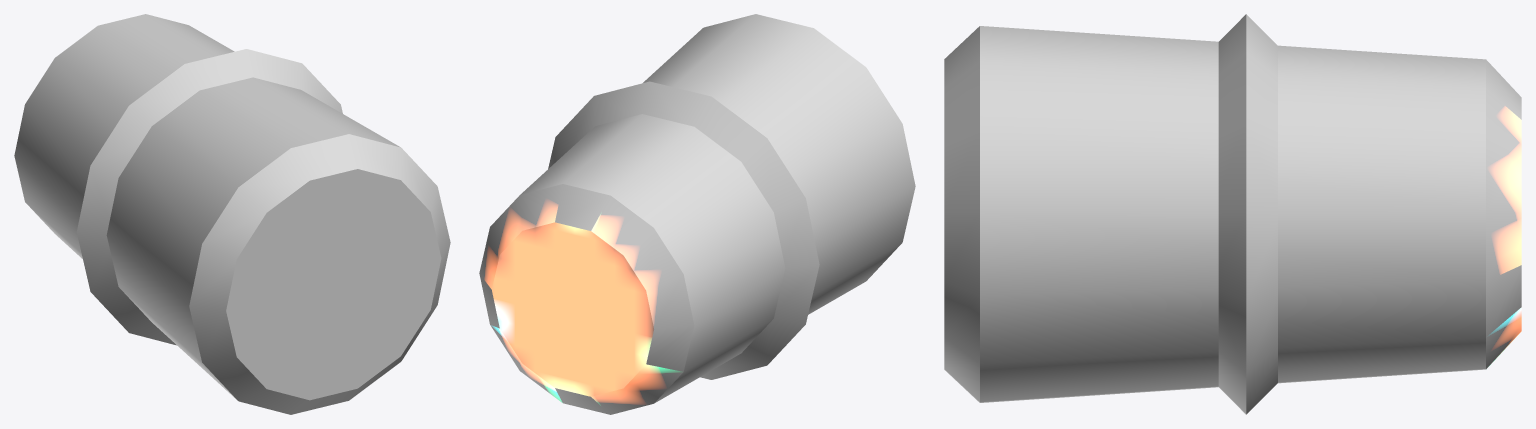
File: Engine_Turbine.fbx
The picture shows the model from 3 angles, left to right: view 1: azimuth 30°, elevation 25°; view 2: azimuth 150°, elevation 25°; view 3: azimuth 270°, elevation 25°; orthographic projection. The views are drawn at different scales.
Parts seen in each view (by area): view 1: Engine_Turbine; view 2: Engine_Turbine; view 3: Engine_Turbine.
Boxes of the visible parts, bbox=[...] form: Engine_Turbine: bbox=[14, 14, 450, 414]; Engine_Turbine: bbox=[479, 14, 915, 414]; Engine_Turbine: bbox=[944, 14, 1521, 414].
Bounding box in the file's own units: 0.462 × 0.4504 × 0.65.
